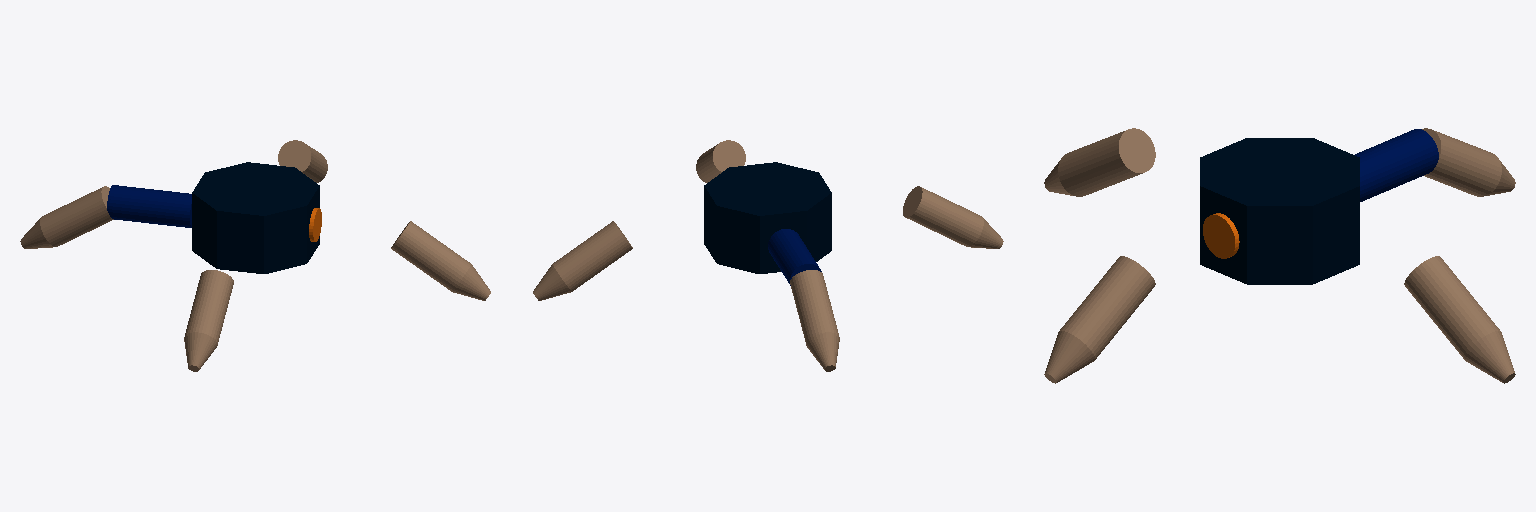
URDF robot description (arakno):
<?xml version="1.0"?>
<!-- Arakno v.1 - Created by [author] -->
  <robot name="arakno">

    <link name="BL_lowerleg">
      <inertial>
        <origin xyz="0 0 0" rpy="0 0 0"/>
        <mass value="2.9"/>
        <inertia ixx="0.0166" ixy="0" ixz="0" iyy="0.0166" iyz="0" izz="0.0031"/>
        <!-- <inertia ixx="0" ixy="0" ixz="0" iyy="0" iyz="0" izz="0"/>  -->
      </inertial>
      <visual>
        <origin xyz="-0.125 0 0" rpy="0 -1.5708 0"/>
        <geometry>
          <mesh filename="package://resources/meshes/stl/BL_lowerleg.stl" scale="1.0 1.0 1.0"/>
        </geometry>
        <material name="lowerleg"/>
      </visual>
      <collision>
        <origin xyz="-0.125 0 0" rpy="0 -1.5708 0"/>
        <geometry>
          <mesh filename="package://resources/meshes/stl/BL_lowerleg.stl" scale="1.0 1.0 1.0"/>
        </geometry>
      </collision>
    </link>

    <link name="BL_shoulder">
      <inertial>
        <origin xyz="0 0 0" rpy="0 0 0"/>
        <mass value="0.13"/>
        <inertia ixx="0.00007" ixy="0" ixz="0" iyy="0.00007" iyz="0" izz="0.00014"/>
        <!-- <inertia ixx="0" ixy="0" ixz="0" iyy="0" iyz="0" izz="0"/> -->
      </inertial>
      <visual>
        <origin xyz="0 0 0" rpy="1.5708 0 0"/>
        <geometry>
          <mesh filename="package://resources/meshes/stl/BL_shoulder.stl" scale="1.0 1.0 1.0"/>
        </geometry>
        <material name="shoulder"/>
      </visual>
      <collision>
        <origin xyz="0 0 0" rpy="1.5708 0 0"/>
        <geometry>
          <mesh filename="package://resources/meshes/stl/BL_shoulder.stl" scale="1.0 1.0 1.0"/>
        </geometry>
      </collision>
    </link>

    <link name="BL_upperleg">
      <inertial>
        <origin xyz="0 0 0" rpy="0 0 0"/>
        <mass value="2.7"/>
        <inertia ixx="0.0105" ixy="0" ixz="0" iyy="0.0105" iyz="0" izz="0.0028"/>
        <!-- <inertia ixx="0" ixy="0" ixz="0" iyy="0" iyz="0" izz="0"/> -->
      </inertial>
      <visual>
        <origin xyz="-0.1 0 0" rpy="0 -1.5708 0"/>
        <geometry>
          <mesh filename="package://resources/meshes/stl/BL_upperleg.stl" scale="1.0 1.0 1.0"/>
        </geometry>
        <material name="upperleg"/>
      </visual>
      <collision>
        <origin xyz="-0.1 0 0" rpy="0 -1.5708 0"/>
        <geometry>
          <mesh filename="package://resources/meshes/stl/BL_upperleg.stl" scale="1.0 1.0 1.0"/>
        </geometry>
      </collision>
    </link>

    <link name="BR_lowerleg">
      <inertial>
        <origin xyz="0 0 0" rpy="0 0 0"/>
        <mass value="2.9"/>
        <inertia ixx="0.0166" ixy="0" ixz="0" iyy="0.0166" iyz="0" izz="0.0031"/>
        <!-- <inertia ixx="0" ixy="0" ixz="0" iyy="0" iyz="0" izz="0"/> -->
      </inertial>
      <visual>
        <origin xyz="-0.125 0 0" rpy="0 -1.5708 0"/>
        <geometry>
          <mesh filename="package://resources/meshes/stl/BR_lowerleg.stl" scale="1.0 1.0 1.0"/>
        </geometry>
        <material name="lowerleg"/>
      </visual>
      <collision>
        <origin xyz="-0.125 0 0" rpy="0 -1.5708 0"/>
        <geometry>
          <mesh filename="package://resources/meshes/stl/BR_lowerleg.stl" scale="1.0 1.0 1.0"/>
        </geometry>
      </collision>
    </link>

    <link name="BR_shoulder">
      <inertial>
        <origin xyz="0 0 0" rpy="0 0 0"/>
        <mass value="0.13"/>
        <inertia ixx="0.00007" ixy="0" ixz="0" iyy="0.00007" iyz="0" izz="0.00014"/>
        <!-- <inertia ixx="0" ixy="0" ixz="0" iyy="0" iyz="0" izz="0"/> -->
      </inertial>
      <visual>
        <origin xyz="0 0 0" rpy="1.5708 0 0"/>
        <geometry>
          <mesh filename="package://resources/meshes/stl/BR_shoulder.stl" scale="1.0 1.0 1.0"/>
        </geometry>
        <material name="shoulder"/>
      </visual>
      <collision>
        <origin xyz="0 0 0" rpy="1.5708 0 0"/>
        <geometry>
          <mesh filename="package://resources/meshes/stl/BR_shoulder.stl" scale="1.0 1.0 1.0"/>
        </geometry>
      </collision>
    </link>

    <link name="BR_upperleg">
      <inertial>
        <origin xyz="0 0 0" rpy="0 0 0"/>
        <mass value="2.7"/>
        <inertia ixx="0.0105" ixy="0" ixz="0" iyy="0.0105" iyz="0" izz="0.0028"/>
        <!-- <inertia ixx="0" ixy="0" ixz="0" iyy="0" iyz="0" izz="0"/> -->
      </inertial>
      <visual>
        <origin xyz="-0.1 0 0" rpy="0 -1.5708 0"/>
        <geometry>
          <mesh filename="package://resources/meshes/stl/BR_upperleg.stl" scale="1.0 1.0 1.0"/>
        </geometry>
        <material name="upperleg"/>
      </visual>
      <collision>
        <origin xyz="-0.1 0 0" rpy="0 -1.5708 0"/>
        <geometry>
          <mesh filename="package://resources/meshes/stl/BR_upperleg.stl" scale="1.0 1.0 1.0"/>
        </geometry>
      </collision>
    </link>

    <link name="FL_lowerleg">
      <inertial>
        <origin xyz="0 0 0" rpy="0 0 0"/>
        <mass value="2.9"/>
        <inertia ixx="0.0166" ixy="0" ixz="0" iyy="0.0166" iyz="0" izz="0.0031"/>
        <!-- <inertia ixx="0" ixy="0" ixz="0" iyy="0" iyz="0" izz="0"/> -->
      </inertial>
      <visual>
        <origin xyz="-0.125 0 0" rpy="0 -1.5708 0"/>
        <geometry>
          <mesh filename="package://resources/meshes/stl/FL_lowerleg.stl" scale="1.0 1.0 1.0"/>
        </geometry>
        <material name="lowerleg"/>
      </visual>
      <collision>
        <origin xyz="-0.125 0 0" rpy="0 -1.5708 0"/>
        <geometry>
          <mesh filename="package://resources/meshes/stl/FL_lowerleg.stl" scale="1.0 1.0 1.0"/>
        </geometry>
      </collision>
    </link>

    <link name="FL_shoulder">
      <inertial>
        <origin xyz="0 0 0" rpy="0 0 0"/>
        <mass value="0.13"/>
        <inertia ixx="0.00007" ixy="0" ixz="0" iyy="0.00007" iyz="0" izz="0.00014"/>
        <!-- <inertia ixx="0" ixy="0" ixz="0" iyy="0" iyz="0" izz="0"/> -->
      </inertial>
      <visual>
        <origin xyz="0 0 0" rpy="1.5708 0 0"/>
        <geometry>
          <mesh filename="package://resources/meshes/stl/FL_shoulder.stl" scale="1.0 1.0 1.0"/>
        </geometry>
        <material name="shoulder"/>
      </visual>
      <collision>
        <origin xyz="0 0 0" rpy="1.5708 0 0"/>
        <geometry>
          <mesh filename="package://resources/meshes/stl/FL_shoulder.stl" scale="1.0 1.0 1.0"/>
        </geometry>
      </collision>
    </link>

    <link name="FL_upperleg">
      <inertial>
        <origin xyz="0 0 0" rpy="0 0 0"/>
        <mass value="2.7"/>
        <inertia ixx="0.0105" ixy="0" ixz="0" iyy="0.0105" iyz="0" izz="0.0028"/>
        <!-- <inertia ixx="0" ixy="0" ixz="0" iyy="0" iyz="0" izz="0"/> -->
      </inertial>
      <visual>
        <origin xyz="-0.1 0 0" rpy="0 -1.5708 0"/>
        <geometry>
          <mesh filename="package://resources/meshes/stl/FL_upperleg.stl" scale="1.0 1.0 1.0"/>
        </geometry>
        <material name="upperleg"/>
      </visual>
      <collision>
        <origin xyz="-0.1 0 0" rpy="0 -1.5708 0"/>
        <geometry>
          <mesh filename="package://resources/meshes/stl/FL_upperleg.stl" scale="1.0 1.0 1.0"/>
        </geometry>
      </collision>
    </link>

    <link name="FR_lowerleg">
      <inertial>
        <origin xyz="0 0 0" rpy="0 0 0"/>
        <mass value="2.9"/>
        <inertia ixx="0.0166" ixy="0" ixz="0" iyy="0.0166" iyz="0" izz="0.0031"/>
        <!-- <inertia ixx="0" ixy="0" ixz="0" iyy="0" iyz="0" izz="0"/> -->
      </inertial>
      <visual>
        <origin xyz="-0.125 0 0" rpy="0 -1.5708 0"/>
        <geometry>
          <mesh filename="package://resources/meshes/stl/FR_lowerleg.stl" scale="1.0 1.0 1.0"/>
        </geometry>
        <material name="lowerleg"/>
      </visual>
      <collision>
        <origin xyz="-0.125 0 0" rpy="0 -1.5708 0"/>
        <geometry>
          <mesh filename="package://resources/meshes/stl/FR_lowerleg.stl" scale="1.0 1.0 1.0"/>
        </geometry>
      </collision>
    </link>

    <link name="FR_shoulder">
      <inertial>
        <origin xyz="0 0 0" rpy="0 0 0"/>
        <mass value="0.13"/>
        <inertia ixx="0.00007" ixy="0" ixz="0" iyy="0.00007" iyz="0" izz="0.00014"/>
        <!-- <inertia ixx="0" ixy="0" ixz="0" iyy="0" iyz="0" izz="0"/> -->
      </inertial>
      <visual>
        <origin xyz="0 0 0" rpy="1.5708 0 0"/>
        <geometry>
          <mesh filename="package://resources/meshes/stl/FR_shoulder.stl" scale="1.0 1.0 1.0"/>
        </geometry>
        <material name="shoulder"/>
      </visual>
      <collision>
        <origin xyz="0 0 0" rpy="1.5708 0 0"/>
        <geometry>
          <mesh filename="package://resources/meshes/stl/FR_shoulder.stl" scale="1.0 1.0 1.0"/>
        </geometry>
      </collision>
    </link>

    <link name="FR_upperleg">
      <inertial>
        <origin xyz="0 0 0" rpy="0 0 0"/>
        <mass value="2.7"/>
        <inertia ixx="0.0105" ixy="0" ixz="0" iyy="0.0105" iyz="0" izz="0.0028"/>
        <!-- <inertia ixx="0" ixy="0" ixz="0" iyy="0" iyz="0" izz="0"/> -->
      </inertial>
      <visual>
        <origin xyz="-0.1 0 0" rpy="0 -1.5708 0"/>
        <geometry>
          <mesh filename="package://resources/meshes/stl/FR_upperleg.stl" scale="1.0 1.0 1.0"/>
        </geometry>
        <material name="upperleg"/>
      </visual>
      <collision>
        <origin xyz="-0.1 0 0" rpy="0 -1.5708 0"/>
        <geometry>
          <mesh filename="package://resources/meshes/stl/FR_upperleg.stl" scale="1.0 1.0 1.0"/>
        </geometry>
      </collision>
    </link>

    <!--<link name="camera">
      <visual>
        <origin xyz="0 0 0" rpy="0 -1.5708 0"/>
        <geometry>
          <mesh filename="package://resources/meshes/stl/camera.stl" scale="1.0 1.0 1.0"/>
        </geometry>
        <material name="camera"/>
      </visual>
      <collision>
        <origin xyz="0 0 0" rpy="0 -1.5708 0"/>
        <geometry>
          <mesh filename="package://resources/meshes/stl/camera.stl" scale="1.0 1.0 1.0"/>
        </geometry>
      </collision>
    </link>-->

    <link name="trunk">
      <inertial>
        <origin xyz="0 0 0" rpy="0 0 0"/>
        <mass value="25.0"/>
        <inertia ixx="0.207" ixy="0" ixz="0" iyy="0.207" iyz="0" izz="0.32"/>
        <!-- <inertia ixx="0" ixy="0" ixz="0" iyy="0" iyz="0" izz="0"/> -->
      </inertial>
      <visual>
        <origin xyz="0 0 0" rpy="0 0 0"/>
        <geometry>
          <mesh filename="package://resources/meshes/stl/trunk.stl" scale="1.0 1.0 1.0"/>
        </geometry>
        <material name="trunk"/>
      </visual>
      <collision>
        <origin xyz="0 0 0" rpy="0 0 0"/>
        <geometry>
          <mesh filename="package://resources/meshes/stl/trunk.stl" scale="1.0 1.0 1.0"/>
        </geometry>
      </collision>
    </link>

    <joint name="BL_lowerleg_joint" type="revolute">
      <origin xyz="-0.2 0 0" rpy="0 0 0"/>
      <parent link="BL_upperleg"/>
      <child link="BL_lowerleg"/>
      <axis xyz="0 0 1.0"/>
      <limit lower="0.05" upper="1.08" effort="300" velocity="5"/>

      <!-- <dynamics damping="0.0" friction="0.0"/> -->

    </joint>

    <joint name="BL_shoulder_joint" type="revolute">
      <origin xyz="-0.10153 -0.10153 0" rpy="0 0 -0.7854"/>
      <parent link="trunk"/>
      <child link="BL_shoulder"/>
      <axis xyz="0 0 1.0"/>
      <limit lower="-0.785" upper="0.785" effort="300" velocity="5"/>

      <!-- <dynamics damping="0.0" friction="0.0"/> -->

    </joint>

    <joint name="BL_upperleg_joint" type="revolute">
      <origin xyz="0 -0.005 0" rpy="1.5708 0 1.5708"/>
      <parent link="BL_shoulder"/>
      <child link="BL_upperleg"/>
      <axis xyz="0 0 1.0"/>
      <limit lower="-0.785" upper="0.785" effort="300" velocity="5"/>

      <!-- <dynamics damping="0.0" friction="0.0"/> -->

    </joint>

    <joint name="BR_lowerleg_joint" type="revolute">
      <origin xyz="-0.2 0 0" rpy="0 0 0"/>
      <parent link="BR_upperleg"/>
      <child link="BR_lowerleg"/>
      <axis xyz="0 0 1.0"/>
      <limit lower="0.05" upper="1.08" effort="300" velocity="5"/>

      <!-- <dynamics damping="0.0" friction="0.0"/> -->

    </joint>

    <joint name="BR_shoulder_joint" type="revolute">
      <origin xyz="0.10153 -0.10153 0" rpy="0 0 0.7854"/>
      <parent link="trunk"/>
      <child link="BR_shoulder"/>
      <axis xyz="0 0 1.0"/>
      <limit lower="-0.785" upper="0.785" effort="300" velocity="5"/>

      <!-- <dynamics damping="0.0" friction="0.0"/> -->

    </joint>

    <joint name="BR_upperleg_joint" type="revolute">
      <origin xyz="0 -0.005 0" rpy="1.5708 0 1.5708"/>
      <parent link="BR_shoulder"/>
      <child link="BR_upperleg"/>
      <axis xyz="0 0 1.0"/>
      <limit lower="-0.785" upper="0.785" effort="300" velocity="5"/>

      <!-- <dynamics damping="0.0" friction="0.0"/> -->

    </joint>

    <joint name="FL_lowerleg_joint" type="revolute">
      <origin xyz="-0.2 0 0" rpy="0 0 0"/>
      <parent link="FL_upperleg"/>
      <child link="FL_lowerleg"/>
      <axis xyz="0 0 1.0"/>
      <limit lower="0.05" upper="1.08" effort="300" velocity="5"/>

      <!-- <dynamics damping="0.0" friction="0.0"/> -->

    </joint>

    <joint name="FL_shoulder_joint" type="revolute">
      <origin xyz="-0.10153 0.10153 0" rpy="0 0 -2.35619"/>
      <parent link="trunk"/>
      <child link="FL_shoulder"/>
      <axis xyz="0 0 1.0"/>
      <limit lower="-0.785" upper="0.785" effort="300" velocity="5"/>

      <!-- <dynamics damping="0.0" friction="0.0"/> -->

    </joint>

    <joint name="FL_upperleg_joint" type="revolute">
      <origin xyz="0 -0.005 0" rpy="1.5708 0 1.5708"/>
      <parent link="FL_shoulder"/>
      <child link="FL_upperleg"/>
      <axis xyz="0 0 1.0"/>
      <limit lower="-0.785" upper="0.785" effort="300" velocity="5"/>

      <!-- <dynamics damping="0.0" friction="0.0"/> -->

    </joint>

    <joint name="FR_lowerleg_joint" type="revolute">
      <origin xyz="-0.2 0 0" rpy="0 0 0"/>
      <parent link="FR_upperleg"/>
      <child link="FR_lowerleg"/>
      <axis xyz="0 0 1.0"/>
      <limit lower="0.05" upper="1.08" effort="300" velocity="5"/>

      <!-- <dynamics damping="0.0" friction="0.0"/> -->

    </joint>

    <joint name="FR_shoulder_joint" type="revolute">
      <origin xyz="0.10153 0.10153 0" rpy="0 0 2.35619"/>
      <parent link="trunk"/>
      <child link="FR_shoulder"/>
      <axis xyz="0 0 1.0"/>
      <limit lower="-0.785" upper="0.785" effort="300" velocity="5"/>

      <!-- <dynamics damping="0.0" friction="0.0"/> -->

    </joint>

    <joint name="FR_upperleg_joint" type="revolute">
      <origin xyz="0 -0.005 0" rpy="1.5708 0 1.5708"/>
      <parent link="FR_shoulder"/>
      <child link="FR_upperleg"/>
      <axis xyz="0 0 1.0"/>
      <limit lower="-0.785" upper="0.785" effort="300" velocity="5"/>

      <!-- <dynamics damping="0.0" friction="0.0"/> -->

    </joint>

    <!--<joint name="camera_joint" type="revolute">
      <origin xyz="0 0.14358 0" rpy="1.5708 0 -1.5708"/>
      <parent link="trunk"/>
      <child link="camera"/>
      <axis xyz="0 0 1.0"/>
      <limit lower="-0.785" upper="0.785" effort="30" velocity="5"/>
    </joint>

    <material name="camera">
      <color rgba="0.637597 0.066626 0.104617 1.0"/>
    </material>-->

    <material name="lowerleg">
      <color rgba="0.597202 0.48515 0.391573 1.0"/>
    </material>

    <material name="shoulder">
      <color rgba="0.846874 0.423268 0.066626 1.0"/>
    </material>

    <material name="trunk">
      <color rgba="0.003347 0.078187 0.14996 1.0"/>
    </material>

    <material name="upperleg">
      <color rgba="0.006995 0.107023 0.341914 1.0"/>
    </material>

  </robot>

--- What the picture shows (computed from the rendered views, not written in the file) ---
3 views of the same robot in one strip: view 1: azimuth 30°, elevation 25°; view 2: azimuth 150°, elevation 25°; view 3: azimuth 270°, elevation 25° (orthographic).
Model arakno with 13 links and 12 joints (12 revolute), rooted at trunk, posed joints at zero except 4 at the middle of their limits (BL_lowerleg_joint = 0.565, BR_lowerleg_joint = 0.565, FL_lowerleg_joint = 0.565, FR_lowerleg_joint = 0.565).
Visible links, largest first — view 1: trunk, BR_lowerleg, BL_lowerleg, FL_lowerleg, FL_upperleg, FR_lowerleg; view 2: trunk, FR_lowerleg, BL_lowerleg, FL_lowerleg, FL_upperleg, BR_lowerleg; view 3: trunk, BR_lowerleg, FR_lowerleg, BL_lowerleg, FL_upperleg, FL_lowerleg, BR_shoulder.
Link boxes in pixels (box(x1,y1,x2,y2)): trunk: box(192, 162, 319, 273); BR_lowerleg: box(391, 221, 490, 300); BL_lowerleg: box(184, 270, 233, 371); FL_lowerleg: box(20, 186, 113, 248); FL_upperleg: box(107, 185, 191, 227); FR_lowerleg: box(278, 140, 327, 182); trunk: box(704, 162, 831, 273); FR_lowerleg: box(533, 221, 632, 300); BL_lowerleg: box(903, 186, 1003, 248); FL_lowerleg: box(790, 270, 839, 371); FL_upperleg: box(768, 229, 821, 285); BR_lowerleg: box(696, 140, 745, 182); trunk: box(1200, 138, 1359, 284); BR_lowerleg: box(1044, 256, 1155, 383); FR_lowerleg: box(1404, 256, 1515, 383); BL_lowerleg: box(1044, 128, 1155, 196); FL_upperleg: box(1355, 129, 1438, 201); FL_lowerleg: box(1422, 128, 1515, 196); BR_shoulder: box(1203, 213, 1239, 258).
Bounding box of the posed robot: 0.8129 × 0.8129 × 0.2201 m (x, y, z).
7 mesh visuals loaded from 13 distinct referenced files (7 binary STL); not drawn: 6 (reference not matched to a file when rendering).